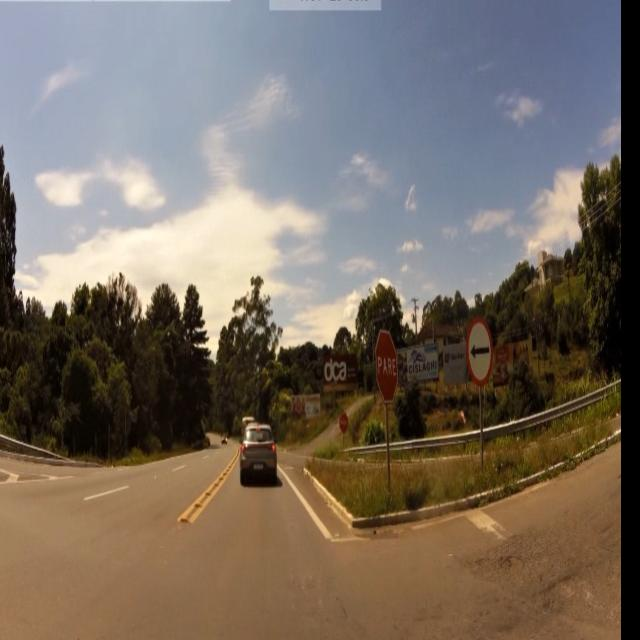R-1: (375, 327, 401, 410)
R-24a: (464, 316, 495, 394)
